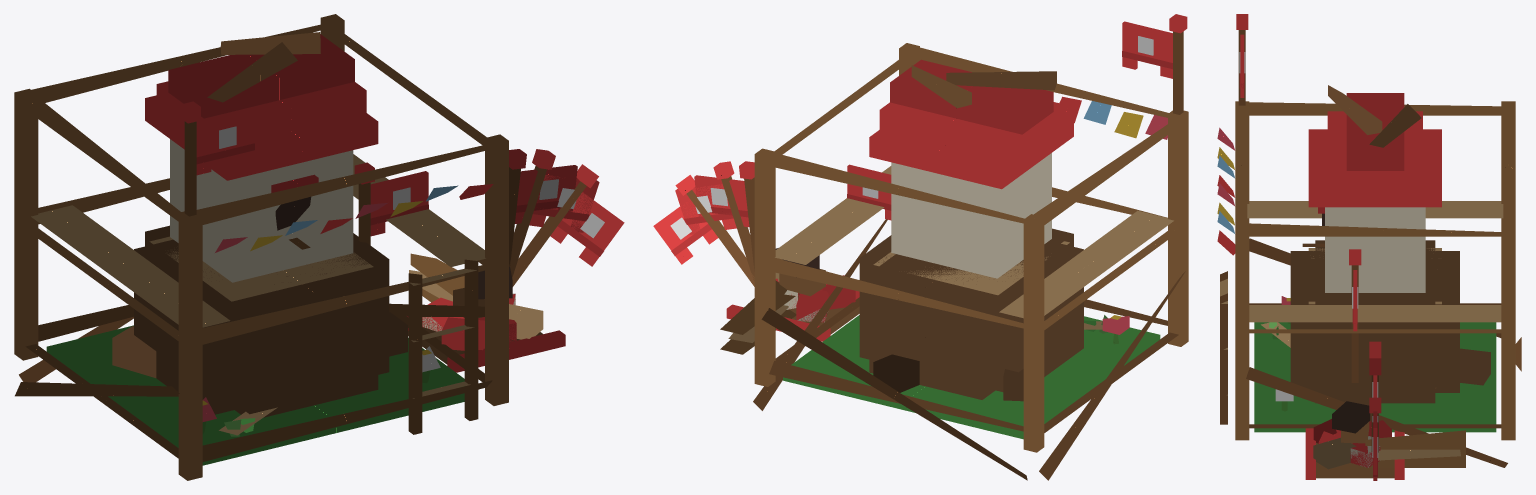
File: robin-home_lod1.glb
The picture shows the model from 3 angles, left to right: view 1: azimuth 30°, elevation 25°; view 2: azimuth 150°, elevation 25°; view 3: azimuth 270°, elevation 25°; orthographic projection. The views are drawn at different scales.
Parts seen in each view (by area): view 1: scaffold-mesh, built-mesh, dismantle-75-mesh, dismantle-25-mesh, dismantle-50-mesh, scaffold-banner, dismantle-25-banner, banner, dismantle-75-banner, scaffold-flag-pole, dismantle-25-flag-pole, dismantle-50-flag-pole (+3 smaller); view 2: scaffold-mesh, built-mesh, dismantle-75-mesh, scaffold-banner, dismantle-25-banner, dismantle-50-mesh, dismantle-25-mesh, dismantle-75-banner, dismantle-50-banner, dismantle-25-flag-pole, scaffold-flag-pole, banner (+2 smaller); view 3: scaffold-mesh, built-mesh, dismantle-75-mesh, dismantle-25-mesh, dismantle-50-mesh, flag-pole, scaffold-flag-pole, scaffold-banner, banner, dismantle-25-flag-pole.
Boxes of the visible parts, x1,y1,x2,y2 form: scaffold-mesh: (14,14,508,480); built-mesh: (145,32,426,443); dismantle-75-mesh: (112,196,565,432); dismantle-25-mesh: (112,266,565,436); dismantle-50-mesh: (112,294,565,414); scaffold-banner: (196,110,254,175); dismantle-25-banner: (550,192,624,266); banner: (370,171,428,236); dismantle-75-banner: (515,165,577,223); scaffold-flag-pole: (180,101,200,216); dismantle-25-flag-pole: (512,164,598,286); dismantle-50-flag-pole: (509,149,555,277); scaffold-mesh: (720,43,1188,480); built-mesh: (783,59,1153,439); dismantle-75-mesh: (726,206,1117,399); scaffold-banner: (1122,21,1172,78); dismantle-25-banner: (653,200,718,264); dismantle-50-mesh: (726,273,1118,396); dismantle-25-mesh: (727,248,1116,378); dismantle-75-banner: (694,175,749,227); dismantle-50-banner: (675,184,736,234); dismantle-25-flag-pole: (675,175,754,286); scaffold-flag-pole: (1169,14,1187,114); banner: (847,164,891,220); scaffold-mesh: (1217,101,1521,467); built-mesh: (1273,85,1495,422); dismantle-75-mesh: (1269,216,1489,479); dismantle-25-mesh: (1261,322,1489,476); dismantle-50-mesh: (1284,348,1490,478); flag-pole: (1349,249,1361,382); scaffold-flag-pole: (1236,14,1248,105); scaffold-banner: (1239,34,1245,97); banner: (1352,270,1358,331); dismantle-25-flag-pole: (1369,397,1381,452).
Size of the model in its own units: 2.45 by 1.8 by 1.51.
